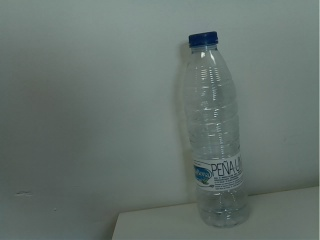botella plastico: (180, 28, 256, 231)
